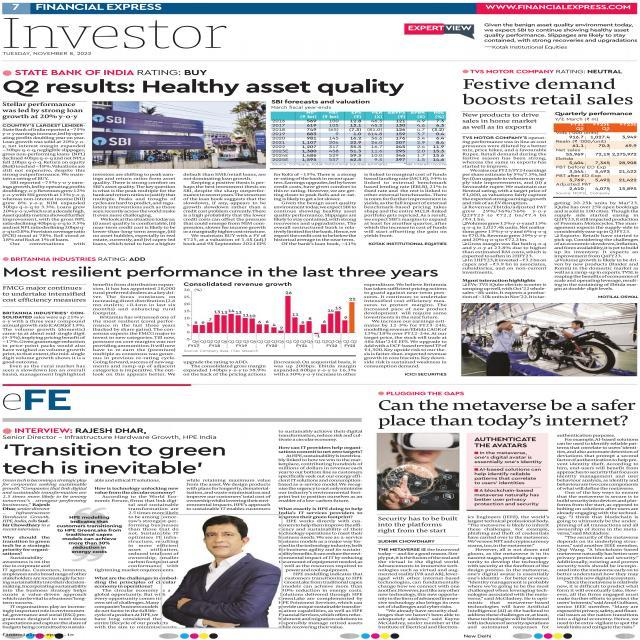Article: (0, 67, 452, 255), (2, 420, 366, 630), (375, 396, 640, 631), (0, 255, 455, 383), (453, 70, 640, 380)
Body: (555, 433, 640, 630), (461, 136, 548, 274), (278, 506, 364, 629), (1, 124, 87, 246), (466, 514, 552, 629), (91, 282, 178, 377), (553, 200, 640, 292), (363, 282, 449, 369), (377, 547, 461, 629), (91, 172, 178, 246), (182, 172, 268, 246), (272, 172, 358, 246), (277, 430, 363, 502), (1, 310, 87, 378), (363, 172, 448, 238), (1, 568, 89, 630), (94, 568, 180, 630), (126, 503, 180, 568), (1, 503, 52, 568), (185, 478, 272, 512), (92, 478, 180, 503), (1, 478, 88, 502), (462, 278, 548, 300), (182, 360, 268, 377), (272, 359, 358, 376), (472, 488, 540, 507), (473, 468, 542, 486), (474, 450, 544, 464)
Date: (1, 50, 92, 56)
Heading: (1, 78, 406, 98), (376, 400, 636, 430), (1, 442, 228, 475), (2, 266, 440, 280), (462, 78, 634, 105), (473, 436, 538, 448)
Highlights: (482, 22, 638, 50), (55, 514, 124, 554), (376, 515, 460, 536), (1, 102, 85, 120), (462, 112, 540, 131), (182, 282, 292, 287)
Image: (462, 303, 638, 377), (93, 101, 266, 169), (183, 288, 360, 349), (183, 514, 274, 629), (272, 112, 446, 166), (376, 433, 459, 510), (552, 123, 640, 191)
Name: (2, 17, 230, 49), (35, 3, 163, 11)
